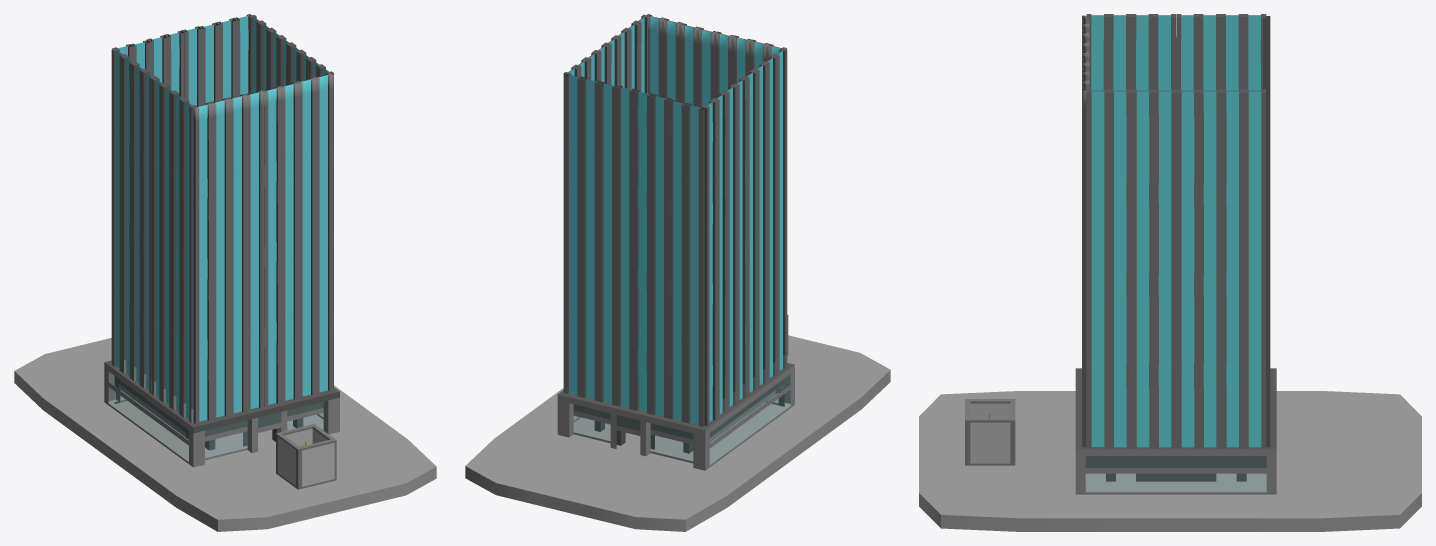
File: orange building.fbx
3 renders of one model, left to right at view 1: azimuth 30°, elevation 25°; view 2: azimuth 150°, elevation 25°; view 3: azimuth 270°, elevation 25°, orthographic. The views are drawn at different scales.
Visible parts, largest first — view 1: pCube44, pCube46, pCube45, orangecube:pCube11; view 2: pCube44, pCube46, pCube45; view 3: pCube44, pCube46, pCube45, orangecube:pCube11.
Boxes of the visible parts, bbox=[...] form: pCube44: bbox=[111, 14, 333, 423]; pCube46: bbox=[14, 338, 436, 531]; pCube45: bbox=[104, 360, 339, 467]; orangecube:pCube11: bbox=[276, 424, 336, 489]; pCube44: bbox=[563, 14, 787, 426]; pCube46: bbox=[465, 335, 890, 531]; pCube45: bbox=[557, 363, 794, 470]; pCube44: bbox=[1082, 14, 1270, 448]; pCube46: bbox=[919, 391, 1421, 531]; pCube45: bbox=[1075, 368, 1276, 494]; orangecube:pCube11: bbox=[965, 399, 1015, 465].
Bounding box in the file's own units: 59.98 × 91.14 × 100.
